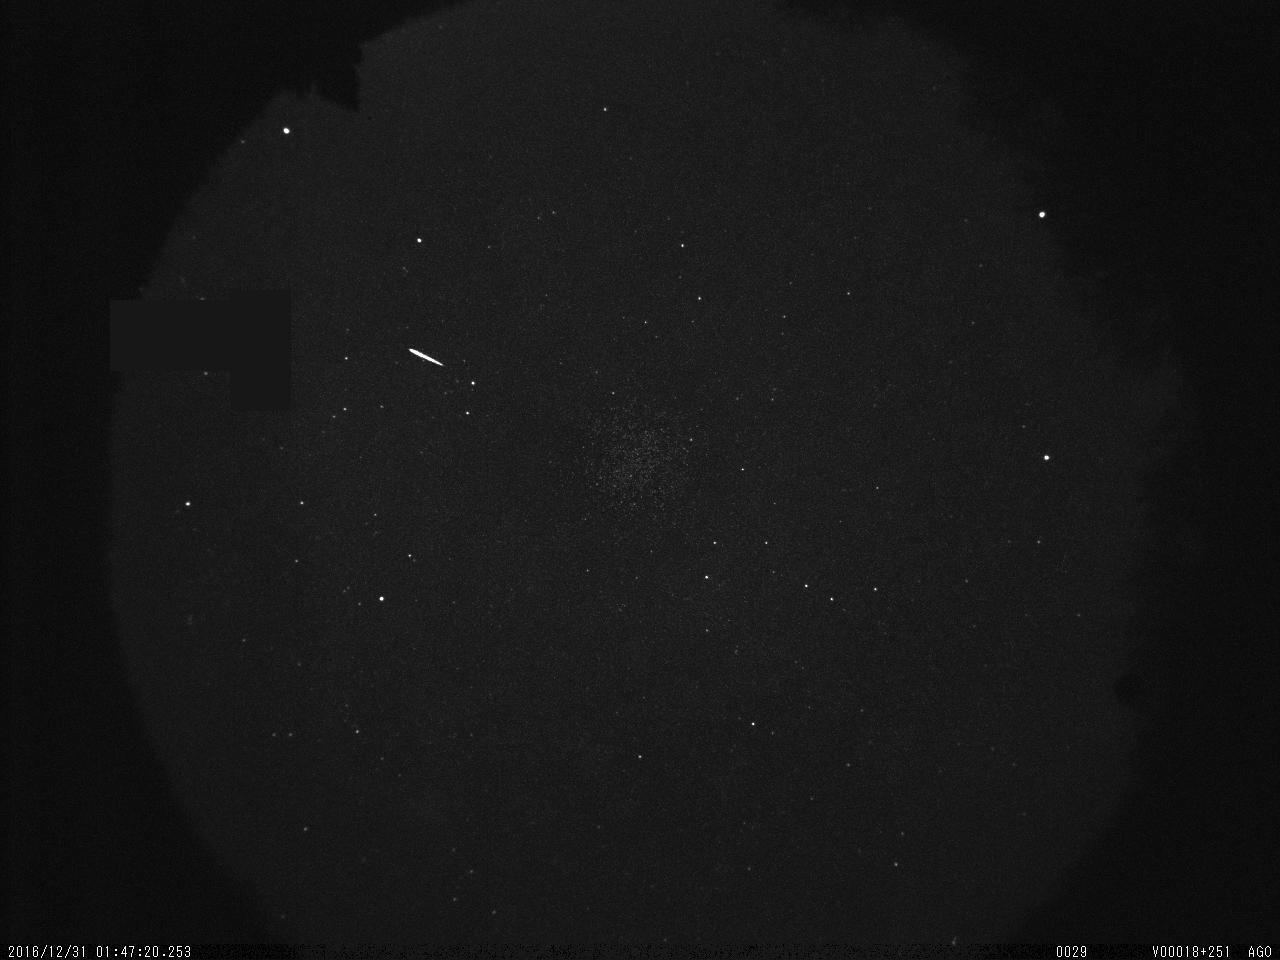meteor: (403, 342, 447, 369)
